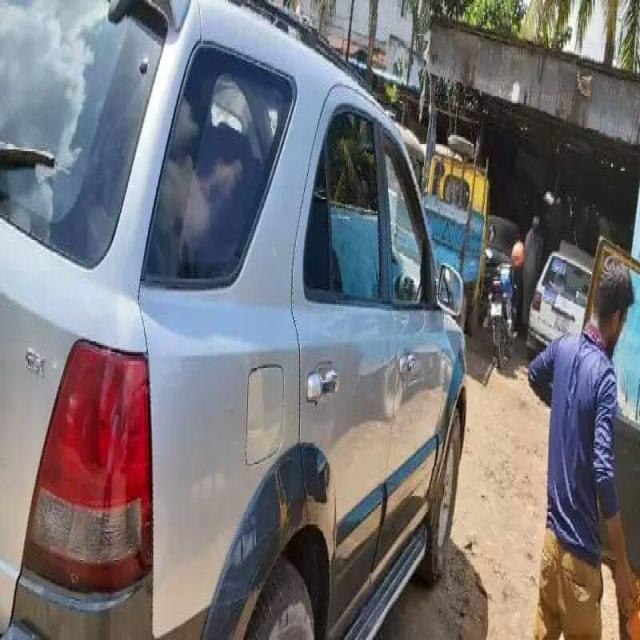silver: (2, 7, 482, 640)
white: (526, 211, 585, 349)
